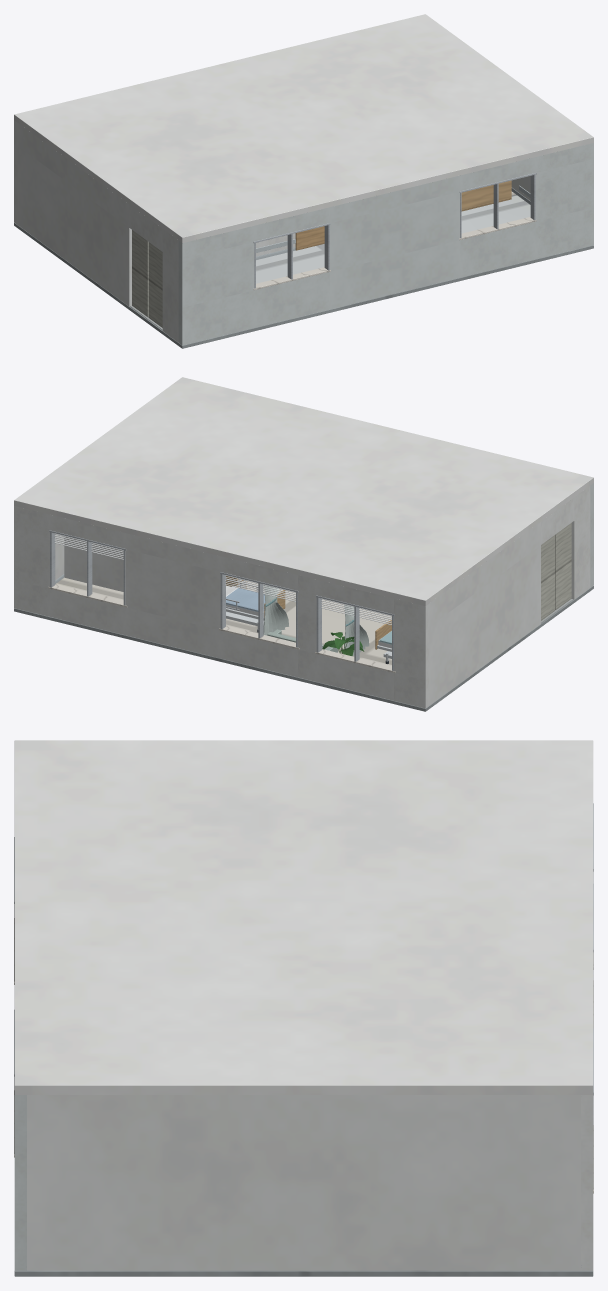
Rendered from desktop.glb.
3 renders of one model, top to bottom at view 1: azimuth 30°, elevation 25°; view 2: azimuth 150°, elevation 25°; view 3: azimuth 270°, elevation 25°, orthographic. The views are drawn at different scales.
Parts seen in each view (by area): view 1: BG_Ceiling, BG_Wall_South, BG_Wall_West, BG_Floor, BG_Furniture_Hero; view 2: BG_Ceiling, BG_Wall_North, BG_Wall_West, BG_Floor, BG_Furniture_Hero, BG_Wall_East; view 3: BG_Ceiling, BG_Wall_East, BG_Floor, BG_Wall_North, BG_Wall_South.
Part boxes in pixels (x1,y1,x2,y2): BG_Ceiling: (14,14,593,243); BG_Wall_South: (178,143,593,345); BG_Wall_West: (17,123,178,342); BG_Floor: (14,191,593,348); BG_Furniture_Hero: (461,180,511,211); BG_Ceiling: (14,377,593,606); BG_Wall_North: (14,506,429,708); BG_Wall_West: (429,486,590,705); BG_Floor: (14,536,593,711); BG_Furniture_Hero: (226,576,391,663); BG_Wall_East: (55,534,64,583); BG_Ceiling: (14,740,593,1094); BG_Wall_East: (27,1095,580,1270); BG_Floor: (14,1270,593,1276); BG_Wall_North: (581,803,593,1270); BG_Wall_South: (14,837,26,1270).
Size of the model in its own units: 12 by 3.1 by 8.52.
4 materials, 4 textured.
